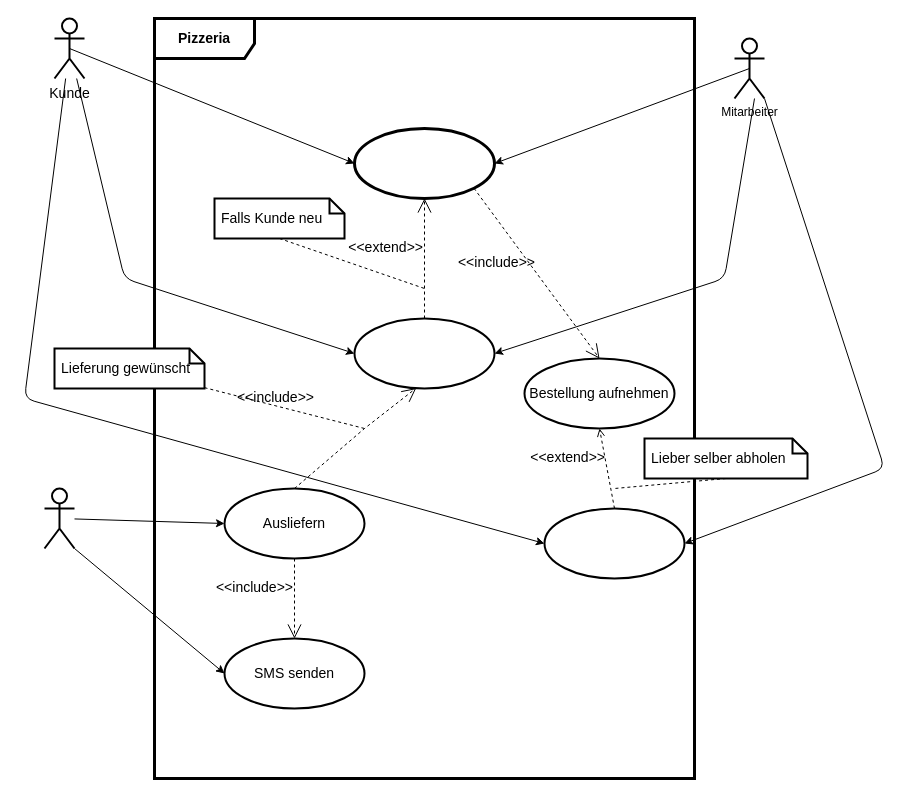
Image size: 910x797. Some labels were removed from this diagram. The centre of each missing label's shape, as x and y in pixels:
"Bestellanruf" belongs at [424,163].
"Fahrer" belongs at [59,518].
"Kunden erfassen" belongs at [424,353].
"Selbstabholung" belongs at [614,543].
